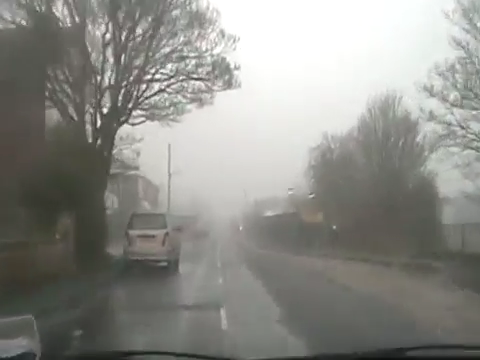car: (122, 210, 183, 270)
